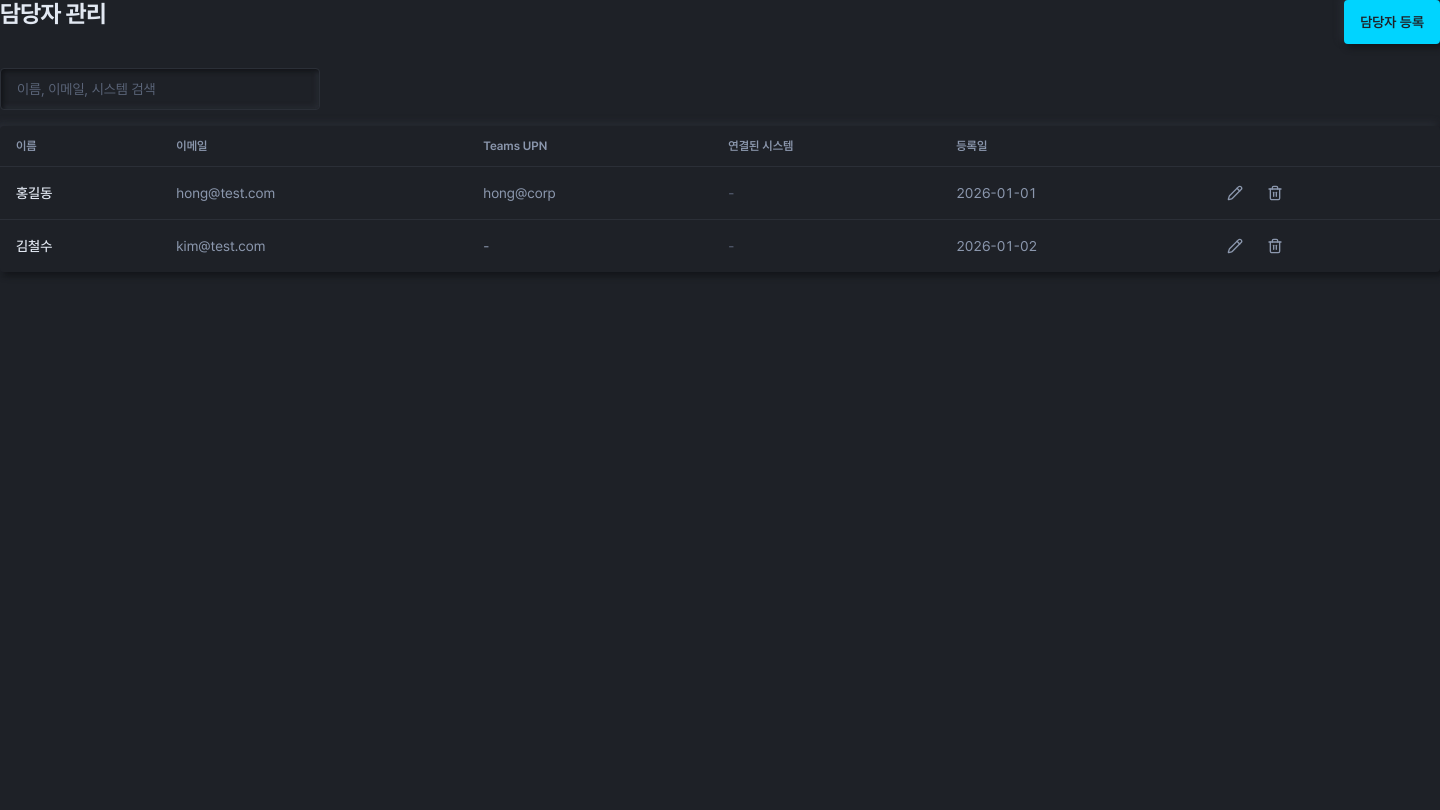
ContactListPage › 삭제 버튼 클릭 → confirm 다이얼로그
Step 1. Click the button named "삭제" in the row of "홍길동" → (1275, 193), box [1261,179,1289,207]
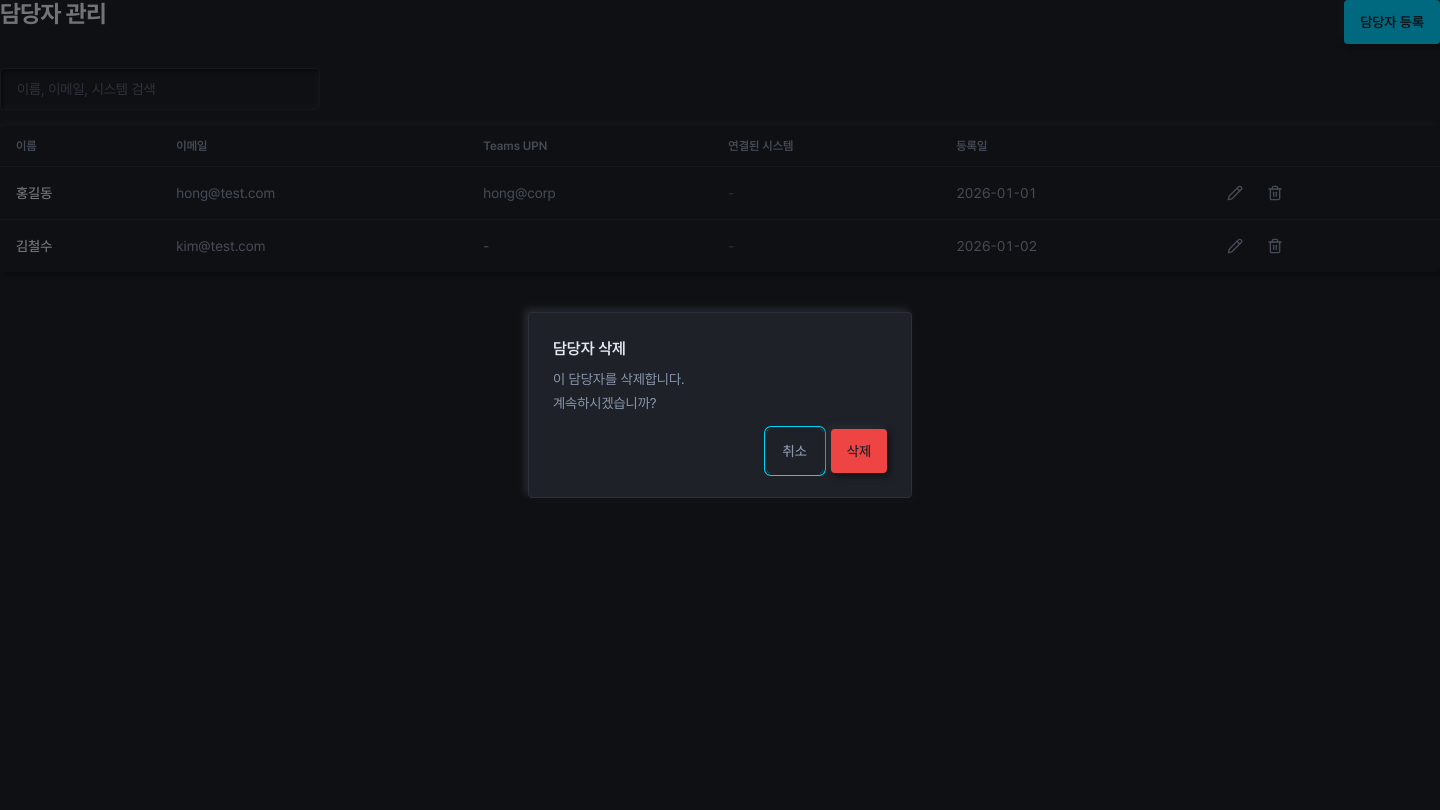
Check: the heading "담당자 삭제" is shown, box [553,339,626,358]
